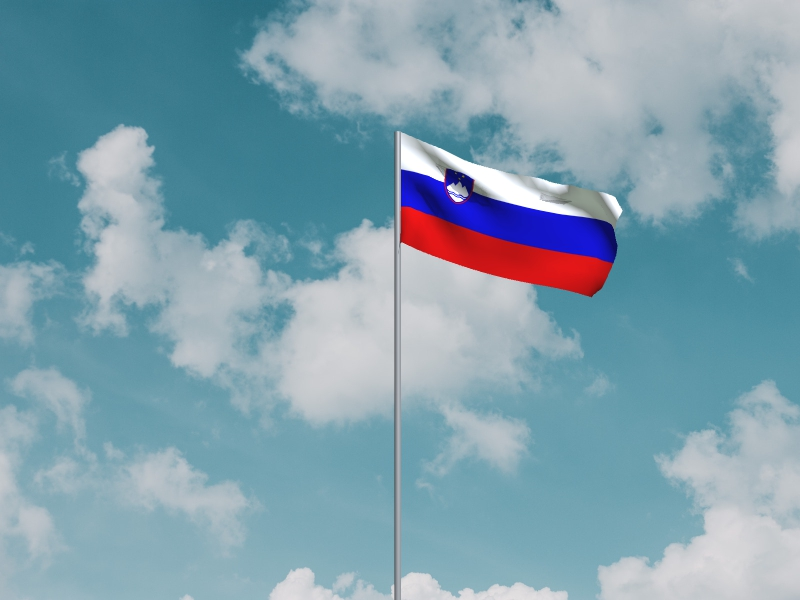si: (402, 133, 623, 299)
